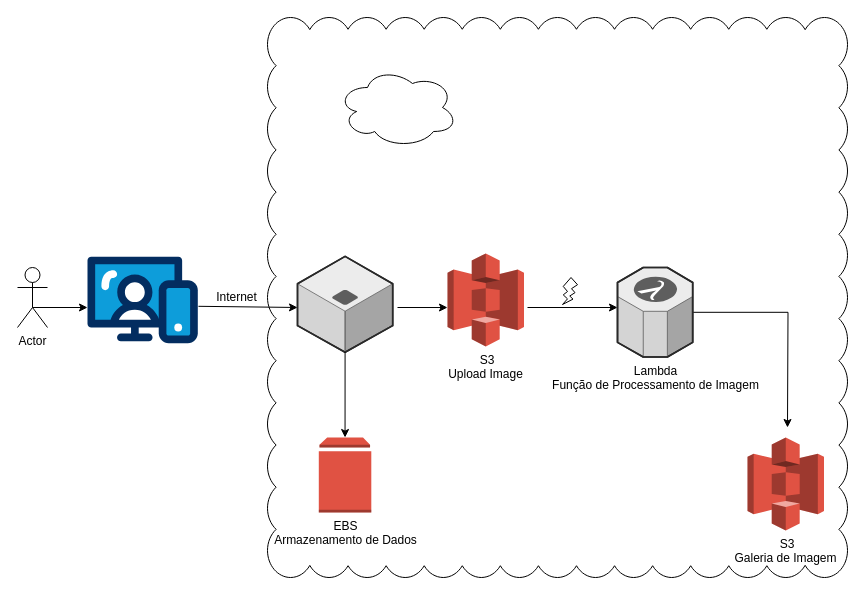
The diagram is 865 pixels wide and 595 high, and some of its shapes have lost their labels. The shapes that lost their labels are listed below. From the top down, each one's centre as x and y in pixels, then its label:
point (397, 107): AWS
point (344, 303): EC2
